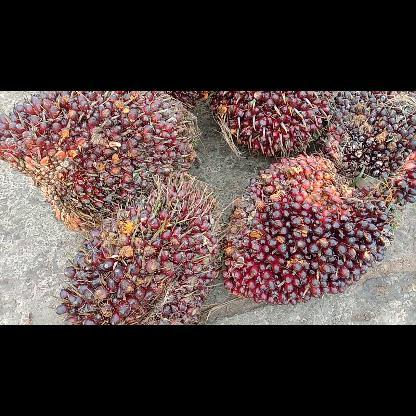Kurang masak: (0, 91, 202, 235), (218, 151, 398, 307), (53, 174, 223, 324), (319, 91, 415, 211), (206, 90, 336, 156)
